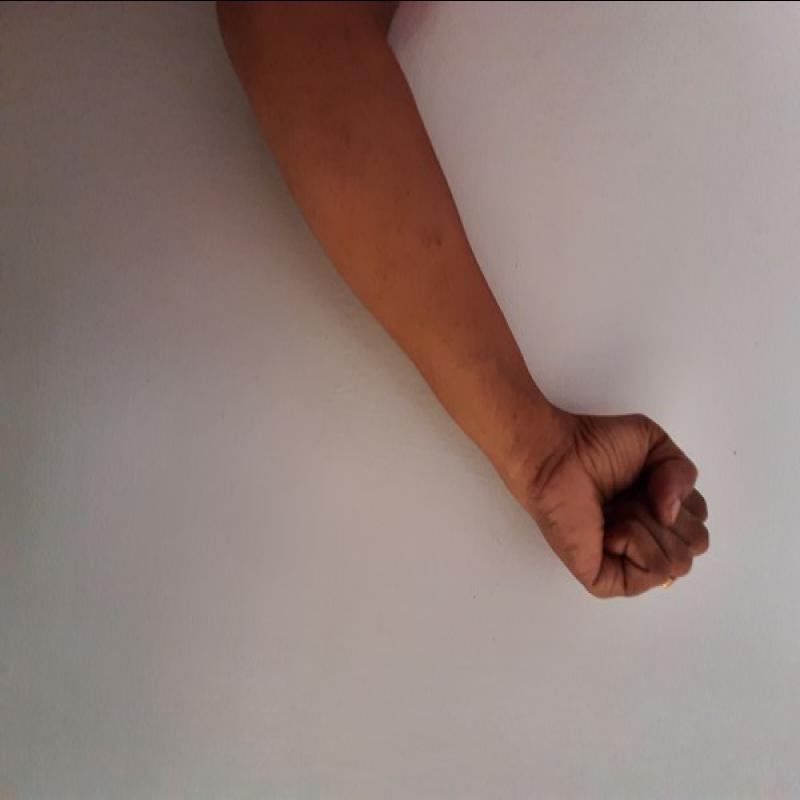Mushti: (500, 375, 719, 616)
